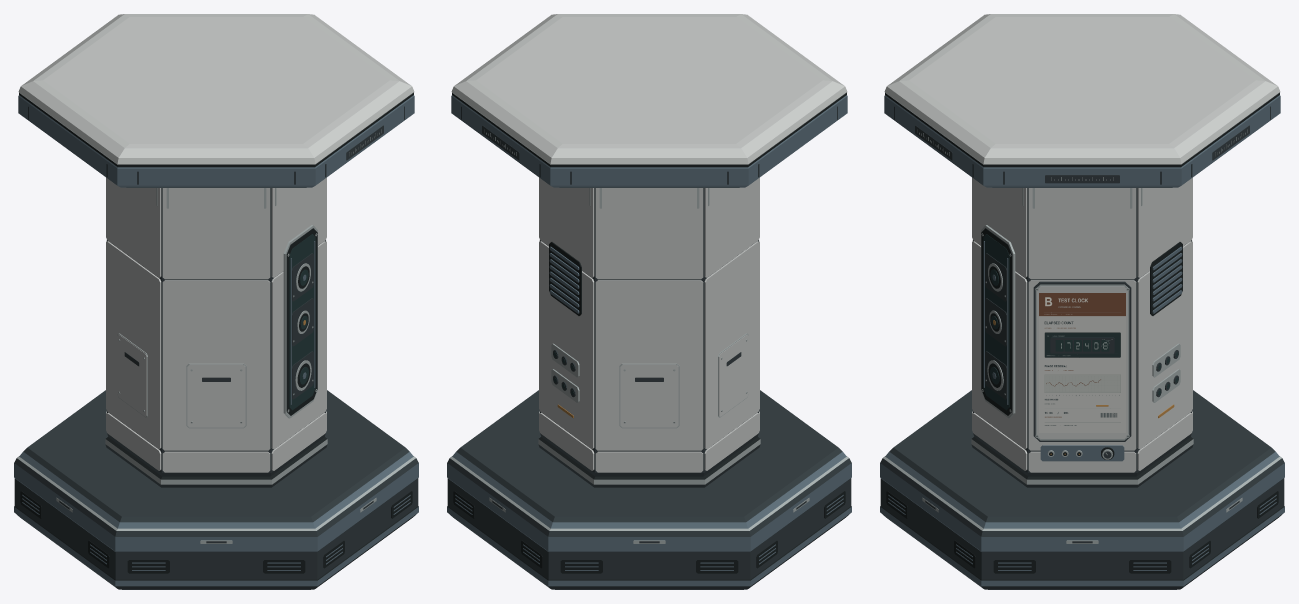
Rendered from SM_TC_TestClock.fbx.
3 views of the same model, side by side, from view 1: azimuth 30°, elevation 25°; view 2: azimuth 150°, elevation 25°; view 3: azimuth 270°, elevation 25° (orthographic).
Parts seen in each view (by area): view 1: SM_TC_TestClock; view 2: SM_TC_TestClock; view 3: SM_TC_TestClock.
Part boxes in pixels (<box>): SM_TC_TestClock: <box>14,14,418,589</box>; SM_TC_TestClock: <box>447,14,851,589</box>; SM_TC_TestClock: <box>880,14,1284,589</box>.
Bounding box in the file's own units: 425 × 490 × 590.
